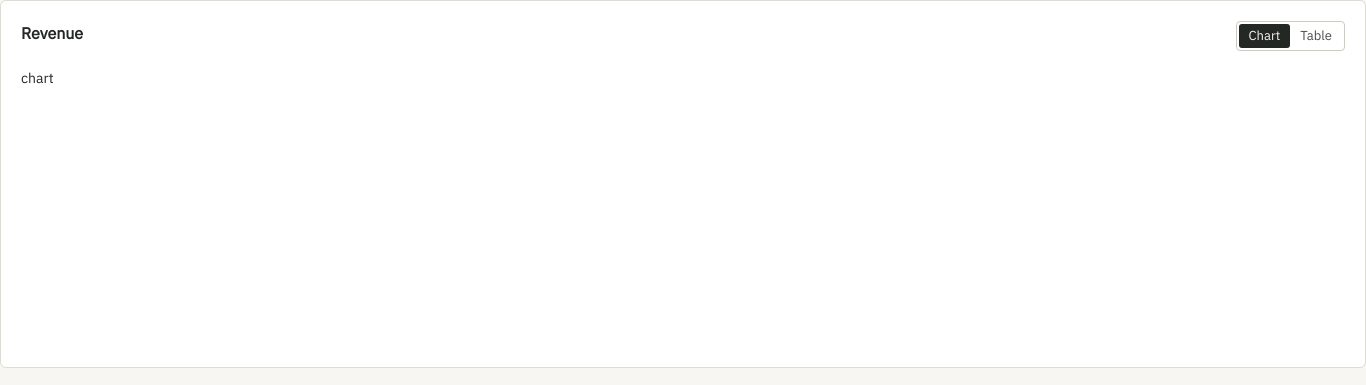
it: ChartFrame › offers a table view of the same values
This screenshot has width=1366, height=385.
Expected: the text "chart" is shown, [21, 69, 54, 87]
Click the tab "Table".
click(1316, 36)  # box [1290, 24, 1342, 48]
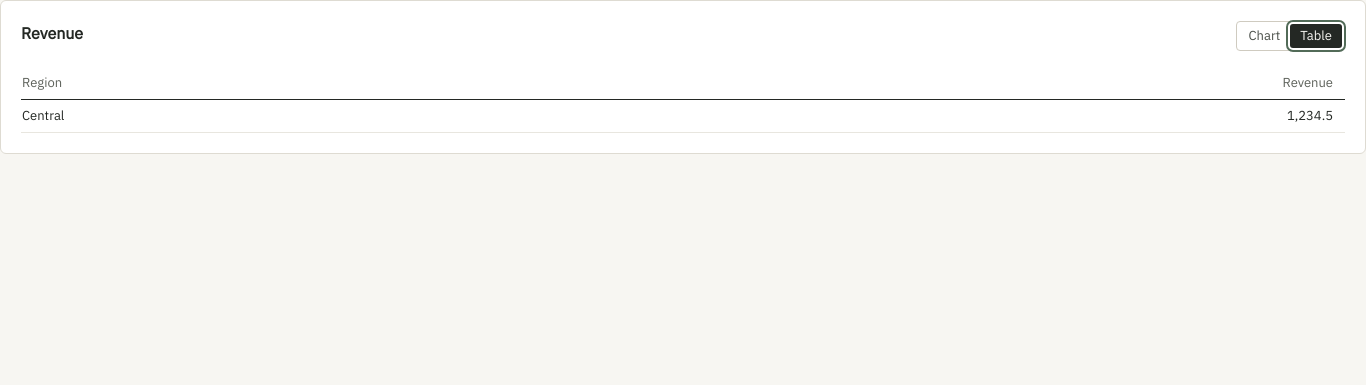
Now the cell "1,234.5" is shown, box [638, 100, 1345, 132]
